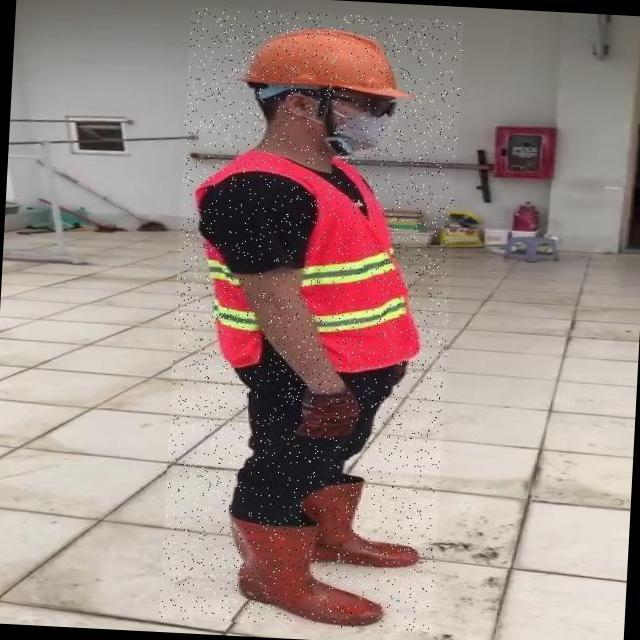Helmet: (238, 20, 410, 99)
Human: (160, 7, 466, 633)
Safety Boot: (229, 518, 386, 627), (300, 478, 430, 569)
Safety Vest: (179, 155, 441, 374)
